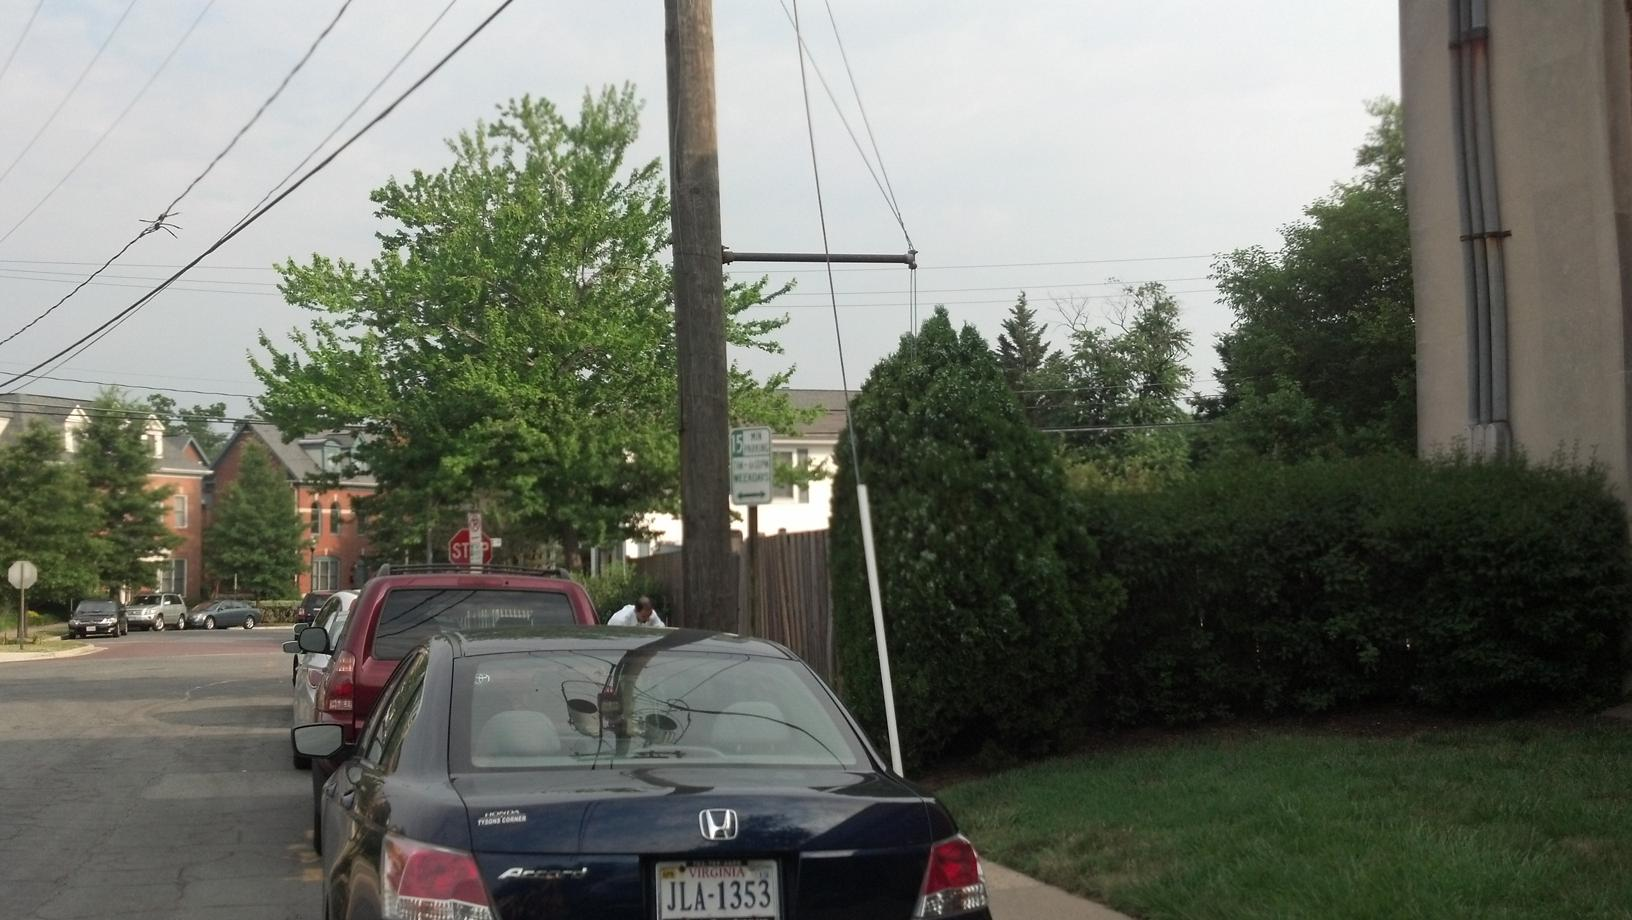car: (334, 630, 992, 920)
